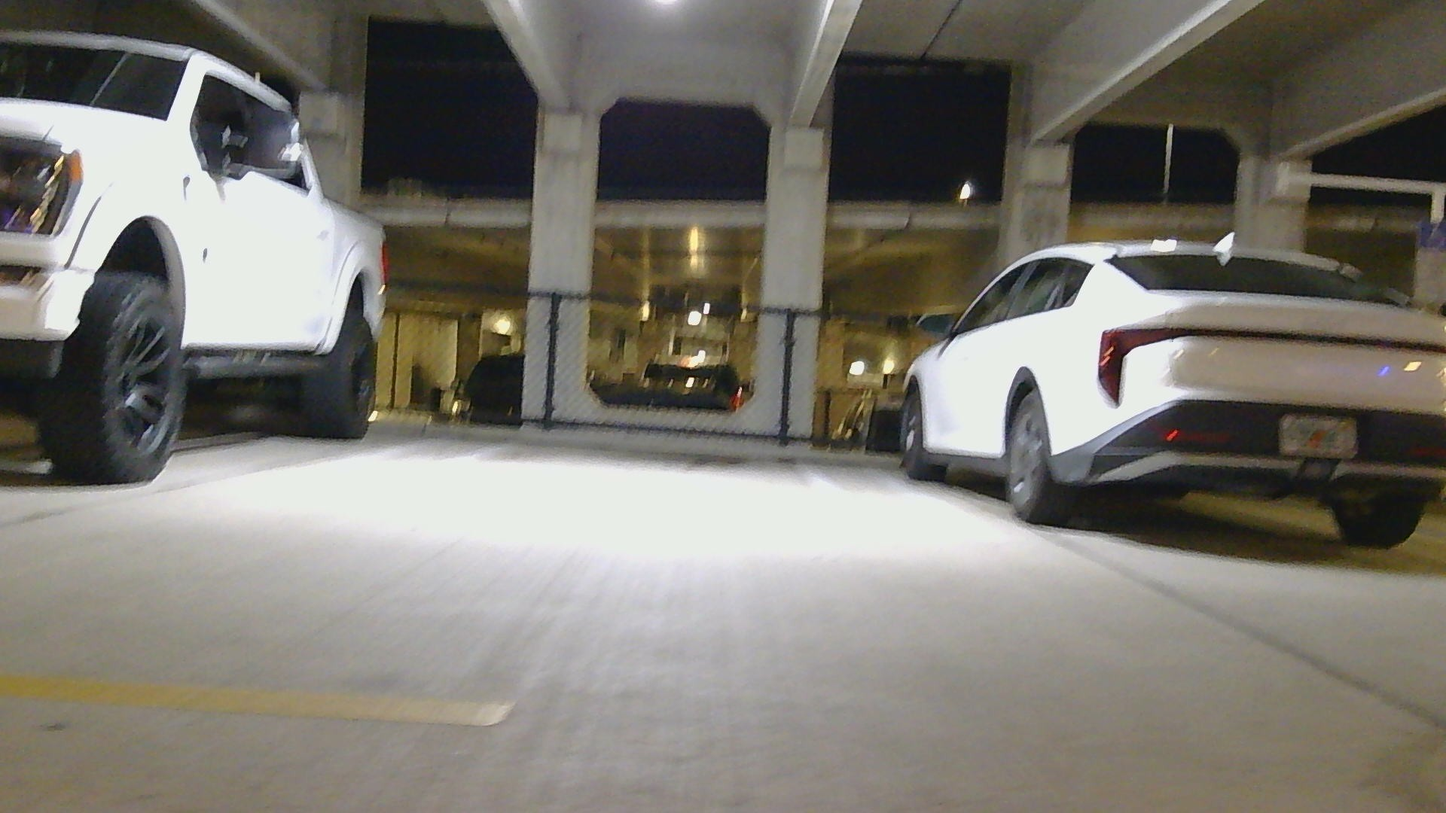empty_spot: (189, 321, 980, 541)
occupied_spot: (1, 28, 392, 498), (897, 229, 1446, 553)
